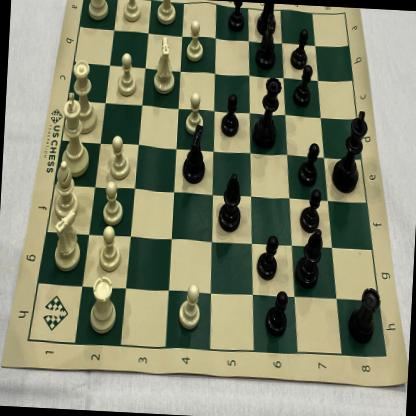bishop: (293, 223, 323, 290), (50, 158, 81, 219), (216, 170, 244, 232), (154, 0, 179, 29)
king: (329, 105, 370, 195), (56, 90, 93, 178)
knight: (50, 208, 83, 274), (177, 124, 209, 186), (150, 34, 178, 96), (252, 11, 279, 70)
pawn: (96, 223, 124, 274), (176, 280, 203, 332), (263, 288, 289, 341), (105, 134, 132, 178), (254, 233, 279, 280), (182, 16, 206, 64), (297, 139, 320, 188), (298, 187, 322, 233), (115, 51, 139, 97), (101, 178, 124, 226), (290, 63, 314, 108), (218, 92, 240, 136), (184, 90, 204, 136), (290, 27, 310, 70), (225, 0, 247, 36), (120, 0, 143, 25)
queen: (66, 56, 101, 136), (251, 74, 281, 148)
rook: (86, 270, 118, 334), (346, 282, 380, 342), (252, 2, 280, 38), (83, 0, 112, 22)
